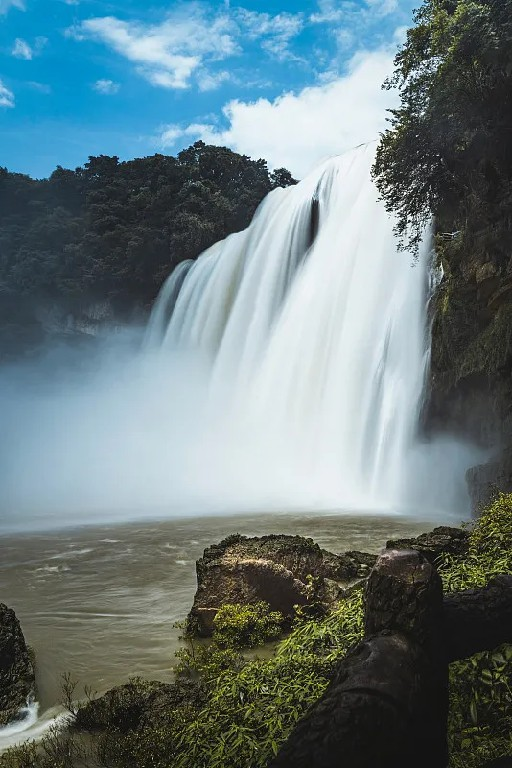Huangguoshu: (137, 141, 434, 514)
